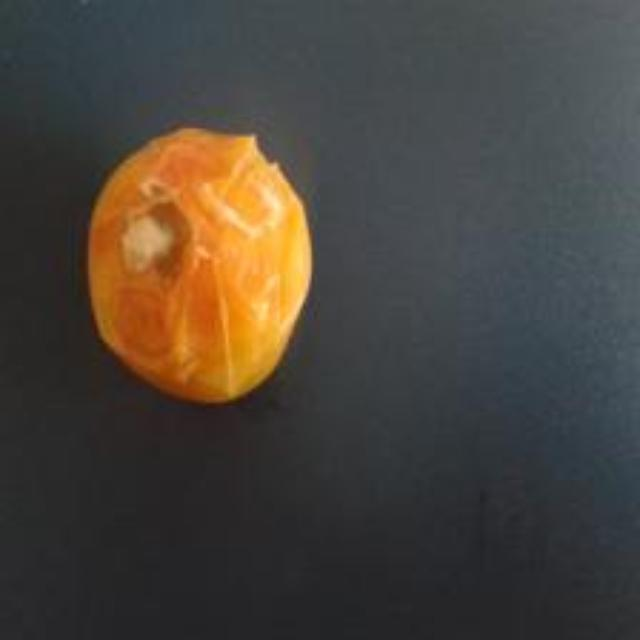defect: (84, 124, 321, 410)
